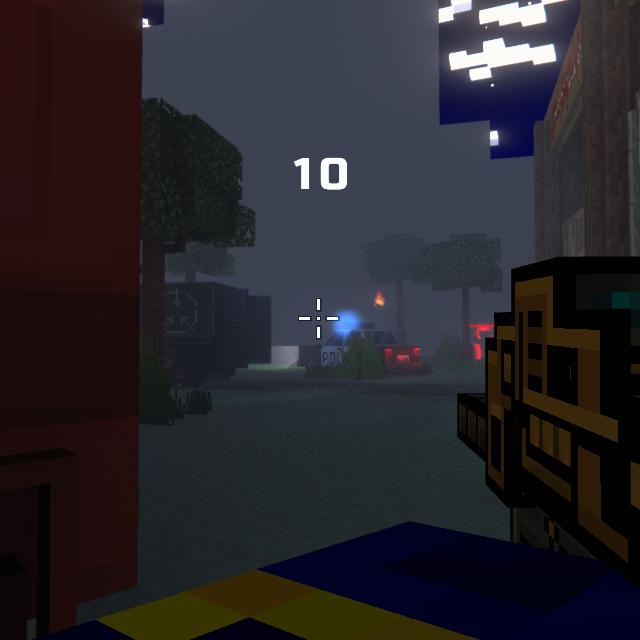Enemy: (473, 329, 491, 359)
